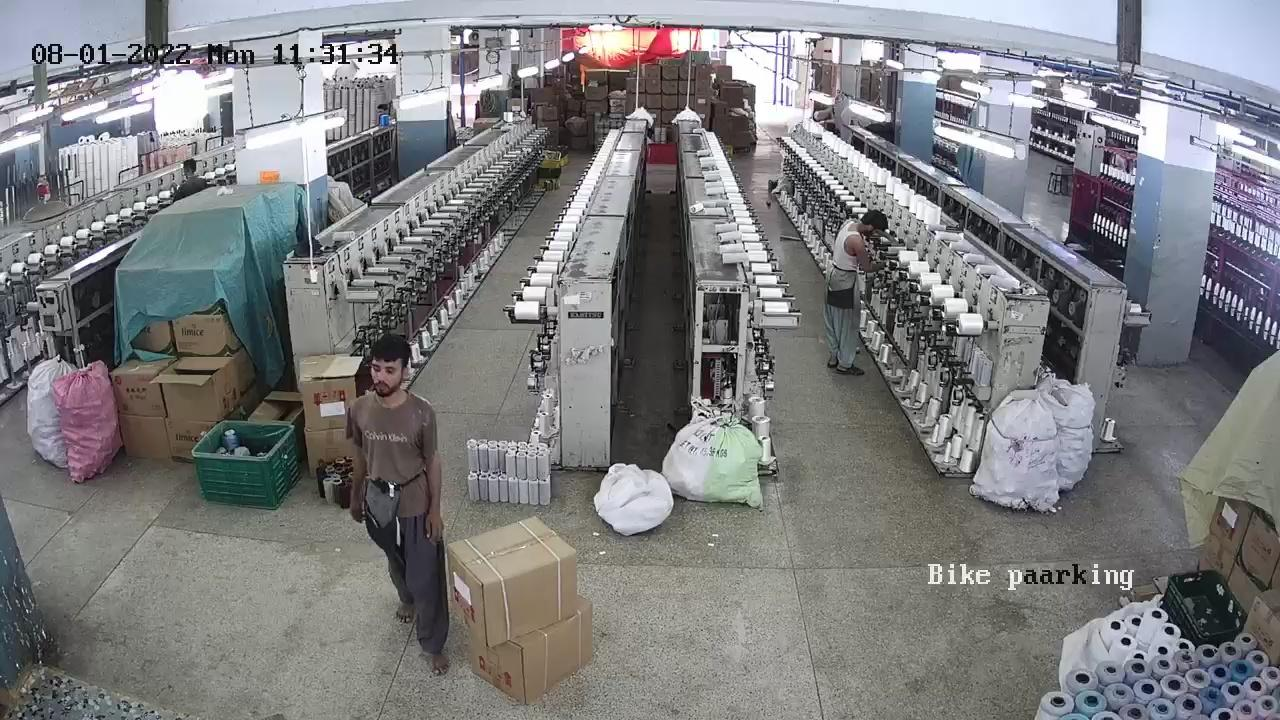person: (354, 343, 450, 665), (825, 213, 889, 363)
